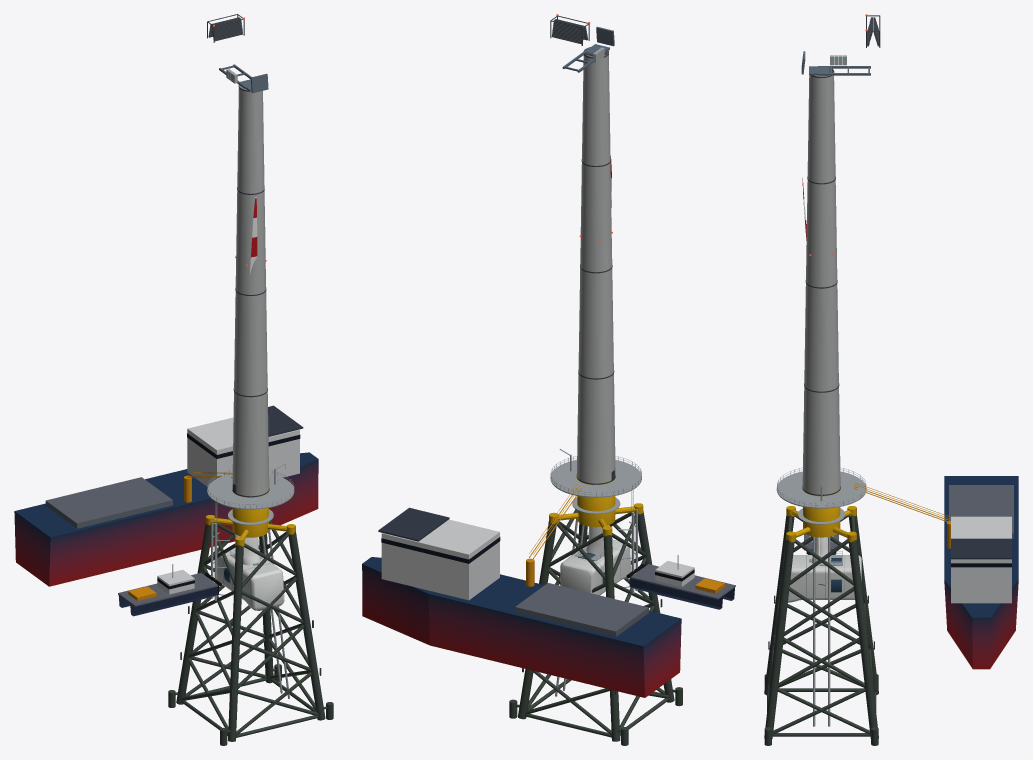
3 renders of one model, left to right at view 1: azimuth 30°, elevation 25°; view 2: azimuth 150°, elevation 25°; view 3: azimuth 270°, elevation 25°, orthographic. The views are drawn at different scales.
Parts seen in each view (by area): view 1: sov, jacket, tower, tp_detail, ctv, nacelle_shell, transition_piece, cooler, blade, bedplate; view 2: sov, tower, jacket, tp_detail, ctv, nacelle_shell, transition_piece, cooler, bedplate; view 3: sov, tower, jacket, tp_detail, nacelle_shell, transition_piece, bedplate.
Part boxes in pixels (bbox=[...]): sov: bbox=[14, 405, 318, 586]; jacket: bbox=[168, 520, 333, 745]; tower: bbox=[232, 85, 269, 497]; tp_detail: bbox=[207, 463, 294, 698]; ctv: bbox=[118, 564, 221, 616]; nacelle_shell: bbox=[217, 547, 284, 610]; transition_piece: bbox=[206, 489, 295, 546]; cooler: bbox=[207, 14, 244, 42]; blade: bbox=[235, 197, 260, 565]; bedplate: bbox=[219, 64, 268, 93]; sov: bbox=[362, 484, 681, 697]; tower: bbox=[577, 47, 615, 484]; jacket: bbox=[509, 509, 682, 745]; tp_detail: bbox=[550, 449, 641, 696]; ctv: bbox=[626, 555, 735, 609]; nacelle_shell: bbox=[560, 539, 631, 595]; transition_piece: bbox=[549, 476, 643, 536]; cooler: bbox=[550, 15, 589, 45]; bedplate: bbox=[562, 26, 614, 72]; sov: bbox=[854, 476, 1018, 669]; tower: bbox=[802, 68, 840, 496]; jacket: bbox=[764, 515, 878, 745]; tp_detail: bbox=[776, 467, 866, 726]; nacelle_shell: bbox=[788, 555, 861, 602]; transition_piece: bbox=[786, 489, 856, 542]; bedplate: bbox=[801, 51, 870, 75].
Size of the model in its own units: 88 by 202 by 66.89.
